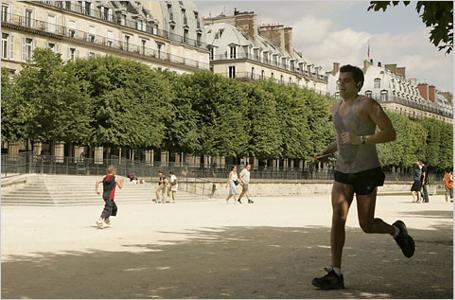person: (309, 65, 415, 291)
